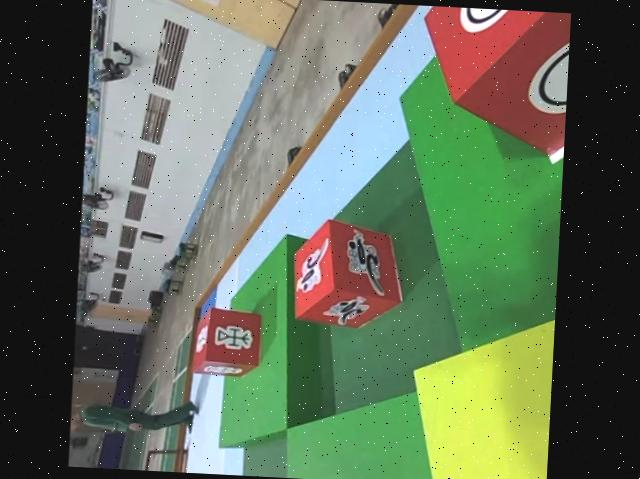R1: (290, 215, 408, 329)
R2 Real: (417, 6, 571, 158), (192, 306, 265, 377)
